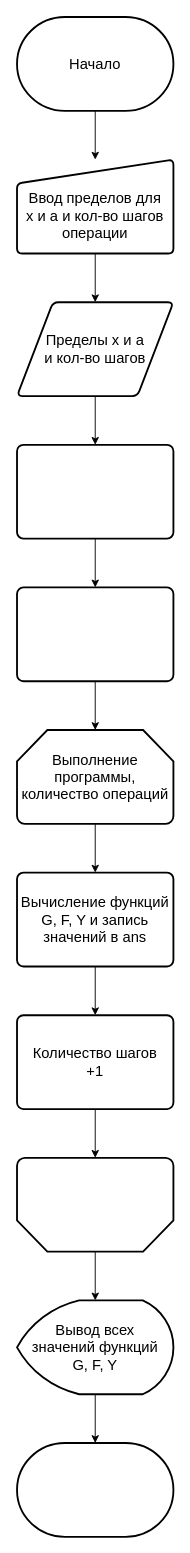
Image size: 190x1553. Some labels were removed from this diagram. Here are the shapes that lost their labels. From the top down, the centre of each, then its label:
[95,491]: Запись данных в переменную var класса lists
[95,634]: Создание переменной ans класса func
[95,1204]: Выполнение программы
[95,1489]: Конец
